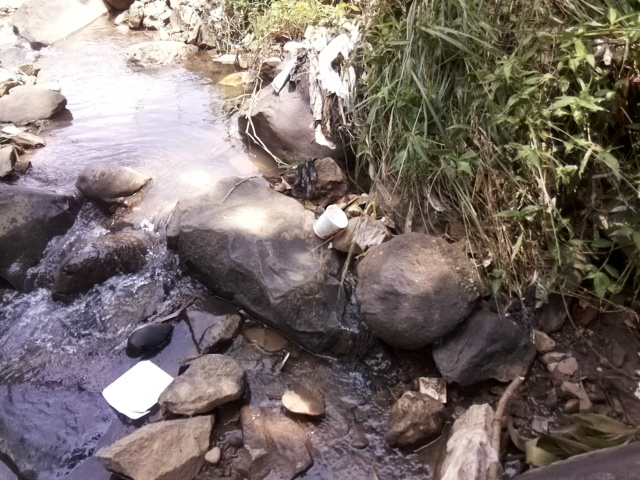Sampah_Styrofoam: (97, 356, 176, 422), (311, 202, 351, 247)
